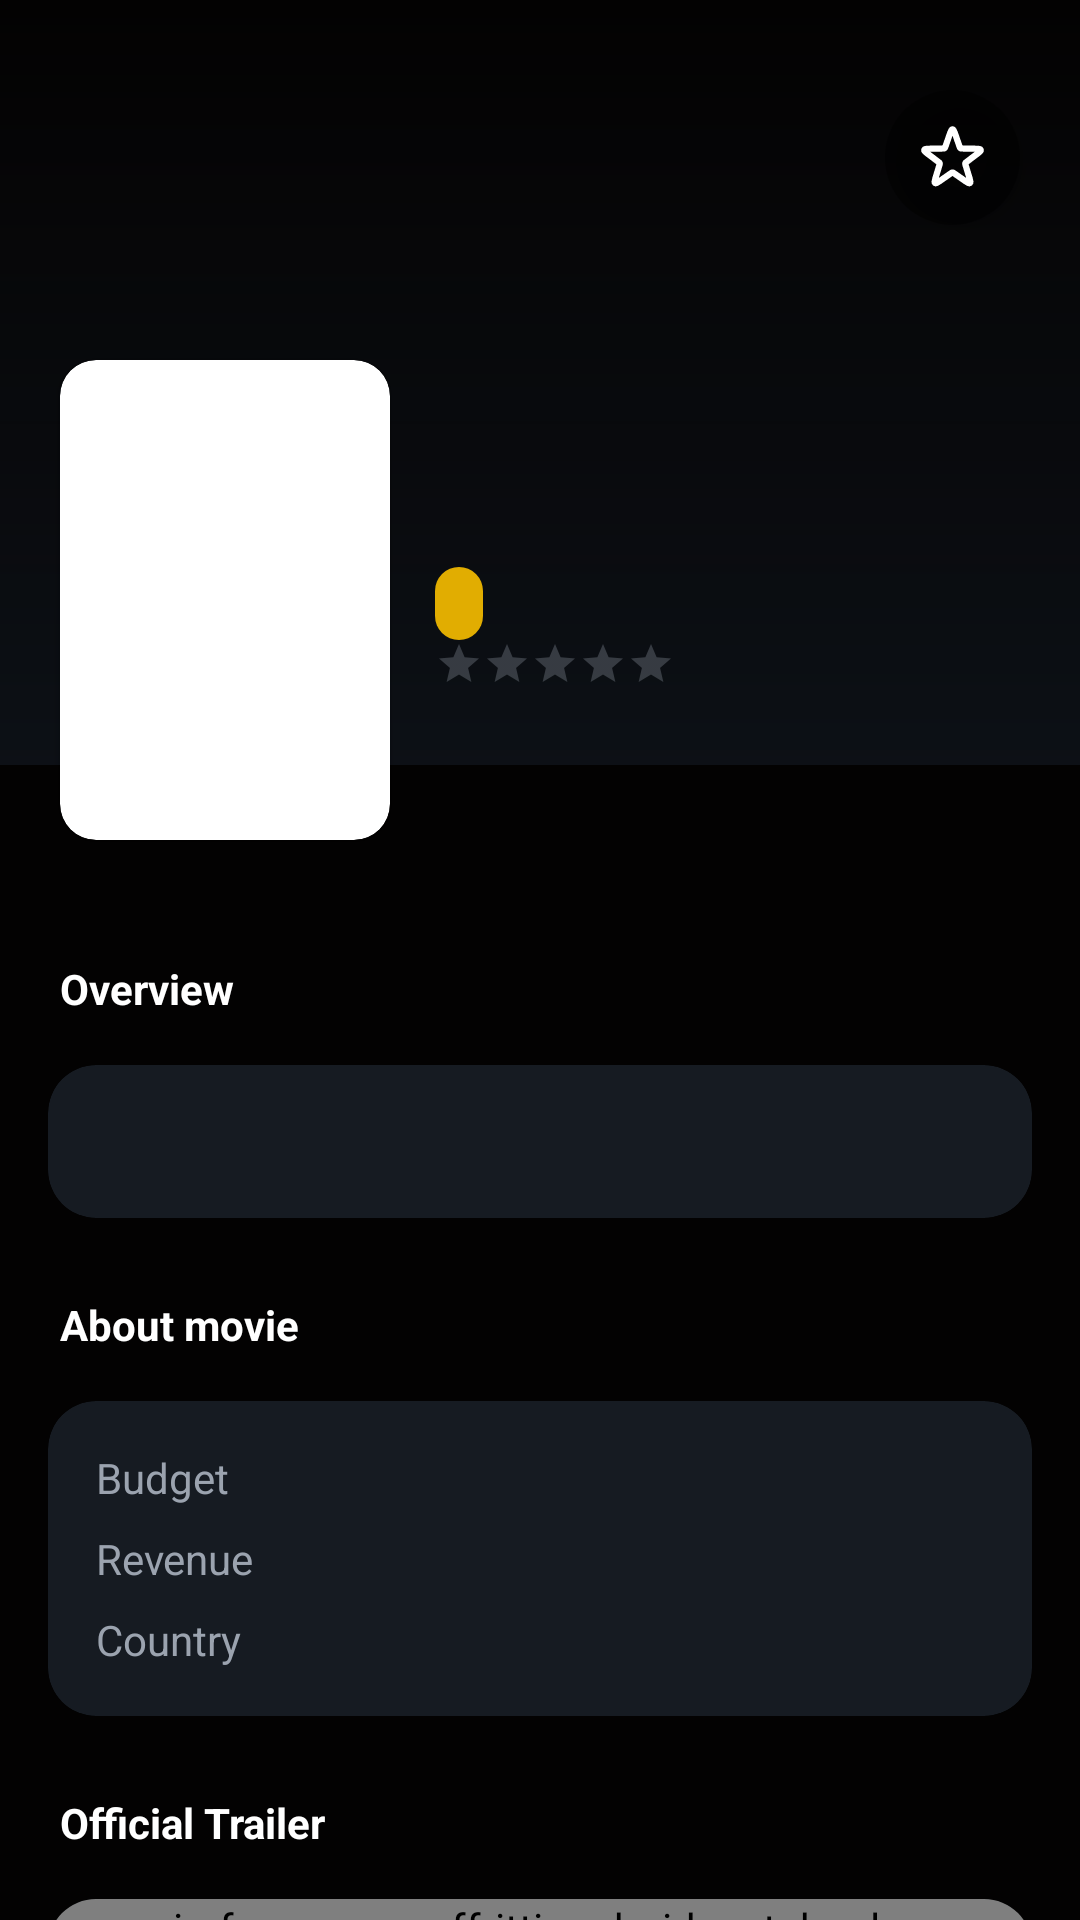

Locate icon controls on the screen. Image size 1080px x 1920px, boxes as bbox(x1, y1, x2, y2).
star: bbox(921, 126, 984, 187)
